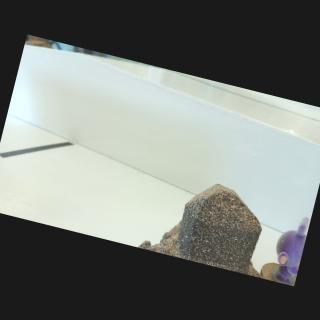teletubby: (271, 217, 309, 285)
